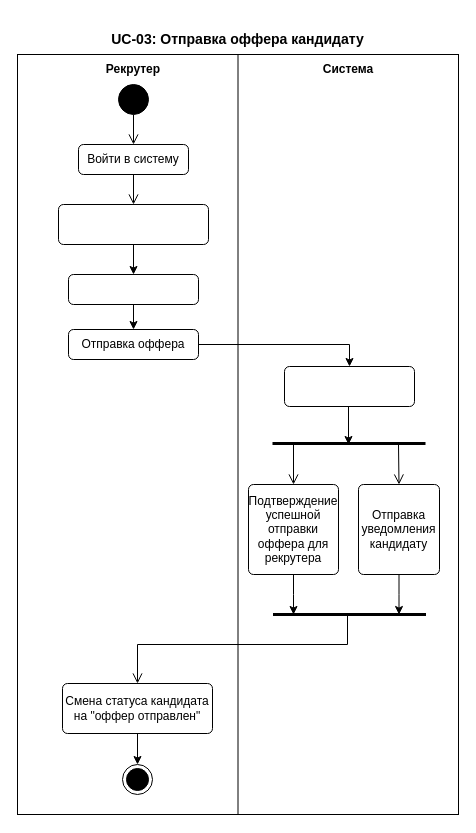
Some shapes in this 476 by 833 pixel diagram are drawn without their labels. The centre of each missing label's shape, as x and y in pixels:
Выбор опции "Составить оффер": the point at 133,224
Заполнение оффера: the point at 133,289
Сохранение заявки и генерация ID: the point at 349,386
